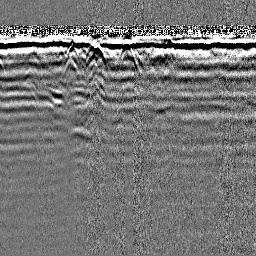cavity: (115, 37, 140, 72)
